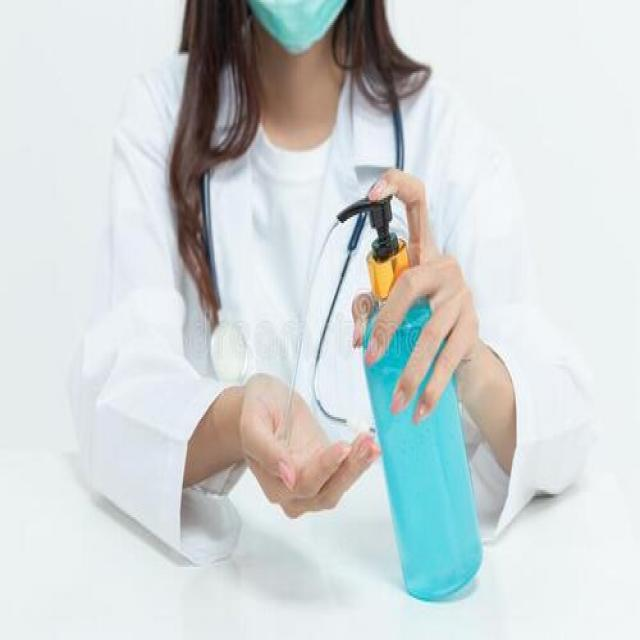sanitizer: (325, 196, 487, 596)
